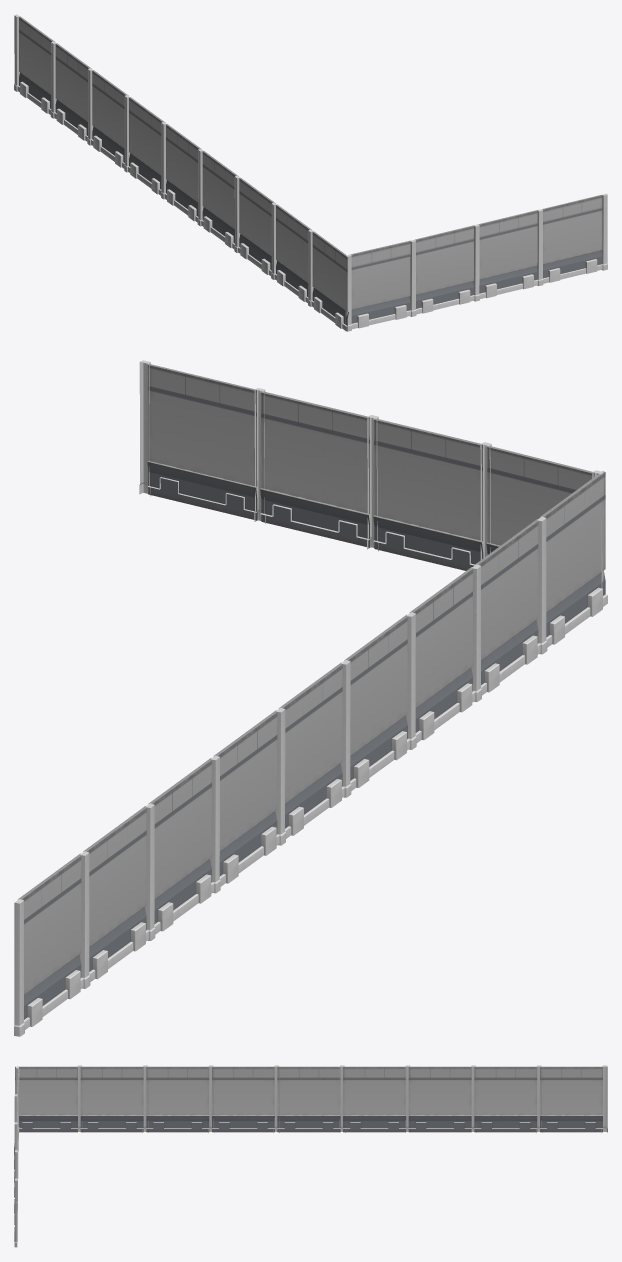
File: Pfb_JALB_WallPart2_Line__11.fbx
3 views of the same model, one above another, from view 1: azimuth 30°, elevation 25°; view 2: azimuth 150°, elevation 25°; view 3: azimuth 270°, elevation 25° (orthographic). The views are drawn at different scales.
Parts seen in each view (by area): view 1: MAT_JLABWall; view 2: MAT_JLABWall; view 3: MAT_JLABWall.
Part boxes in pixels (<box>): MAT_JLABWall: <box>14,14,607,331</box>; MAT_JLABWall: <box>14,360,607,1036</box>; MAT_JLABWall: <box>14,1065,607,1247</box>.
Bounding box in the file's own units: 14.91 × 4.09 × 32.59.
1 material, 1 textured.
